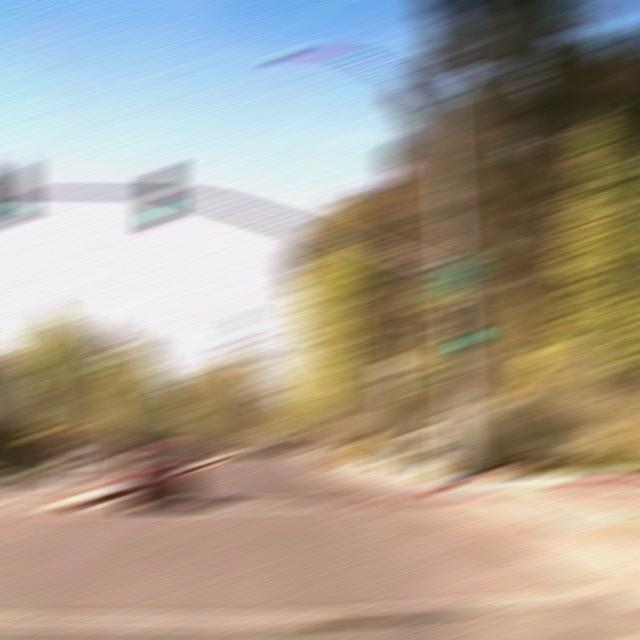speedLimit40: (376, 357, 409, 382)
